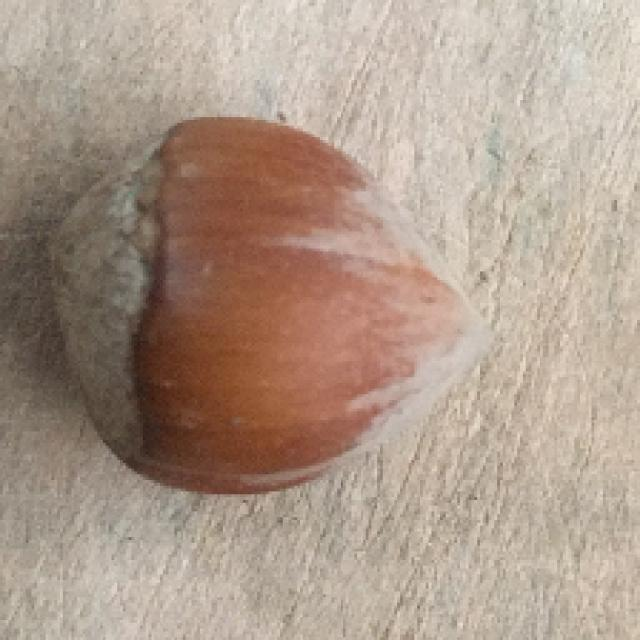qualityHazelnut: (39, 112, 479, 512)
